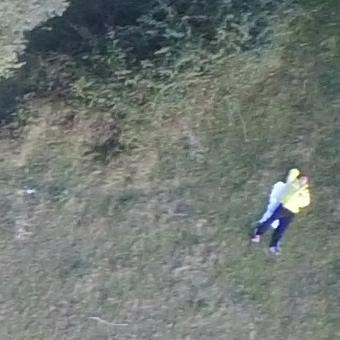human: (252, 171, 311, 255)
